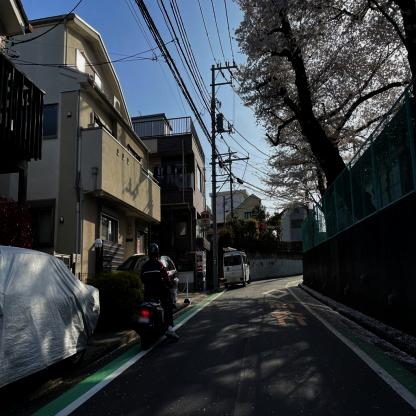Someiyoshino: (216, 0, 416, 238)
